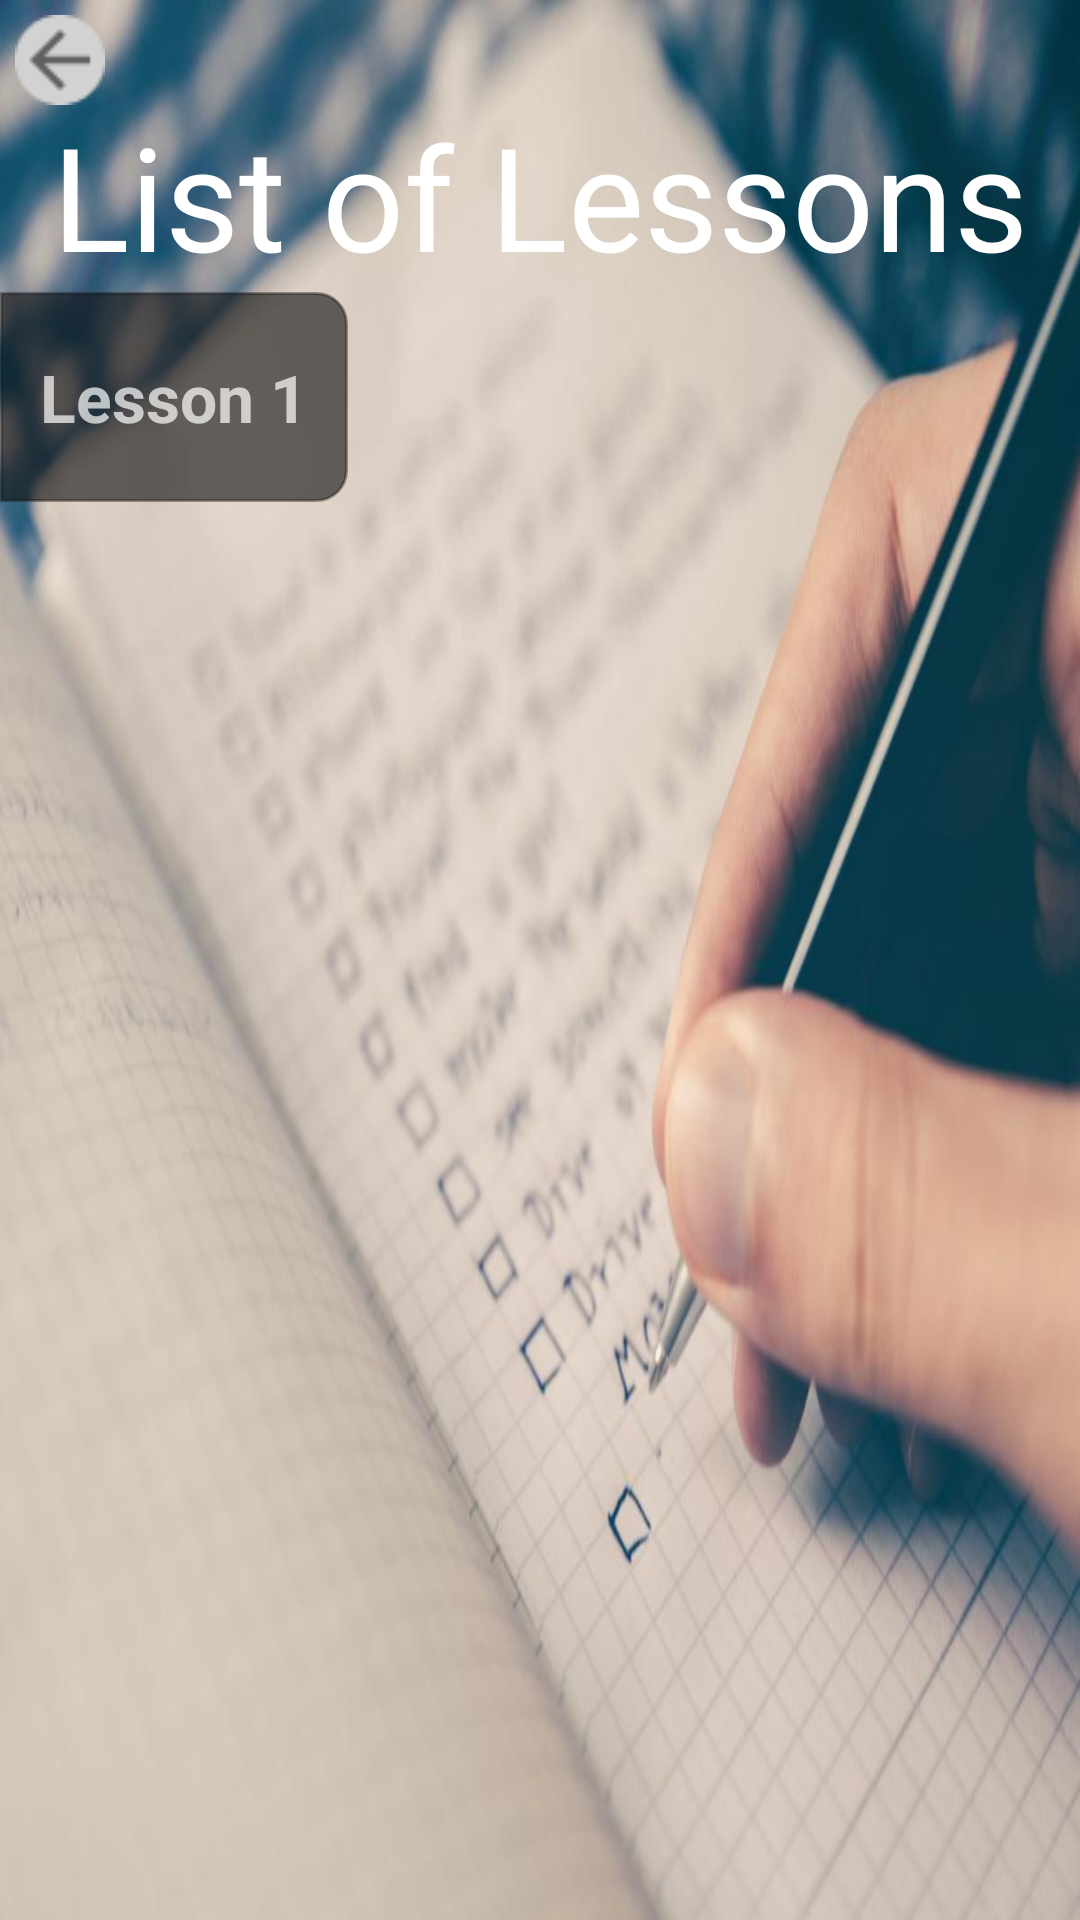

Named icons in this screenshot (1080px x 1920px) and their centers, (x=x, y=y):
back: (x=60, y=60)
